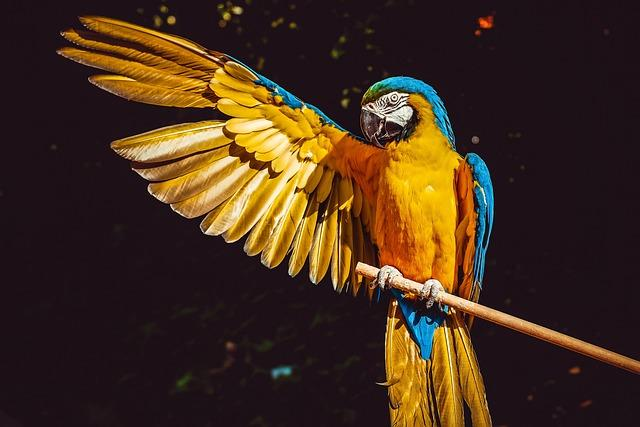panda: (60, 16, 493, 300), (385, 291, 491, 426)
